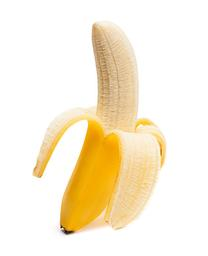banana: (34, 20, 167, 237)
